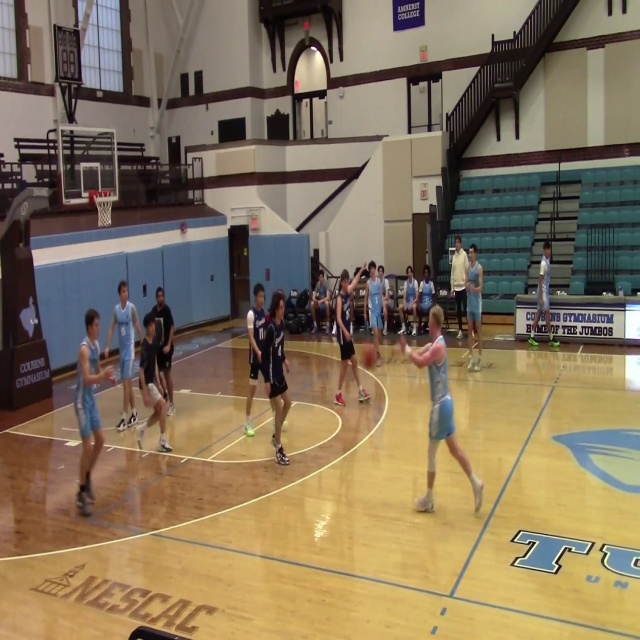Basketball: (411, 342, 445, 368), (430, 343, 445, 365), (362, 345, 376, 367), (410, 351, 428, 368), (247, 310, 254, 328)
